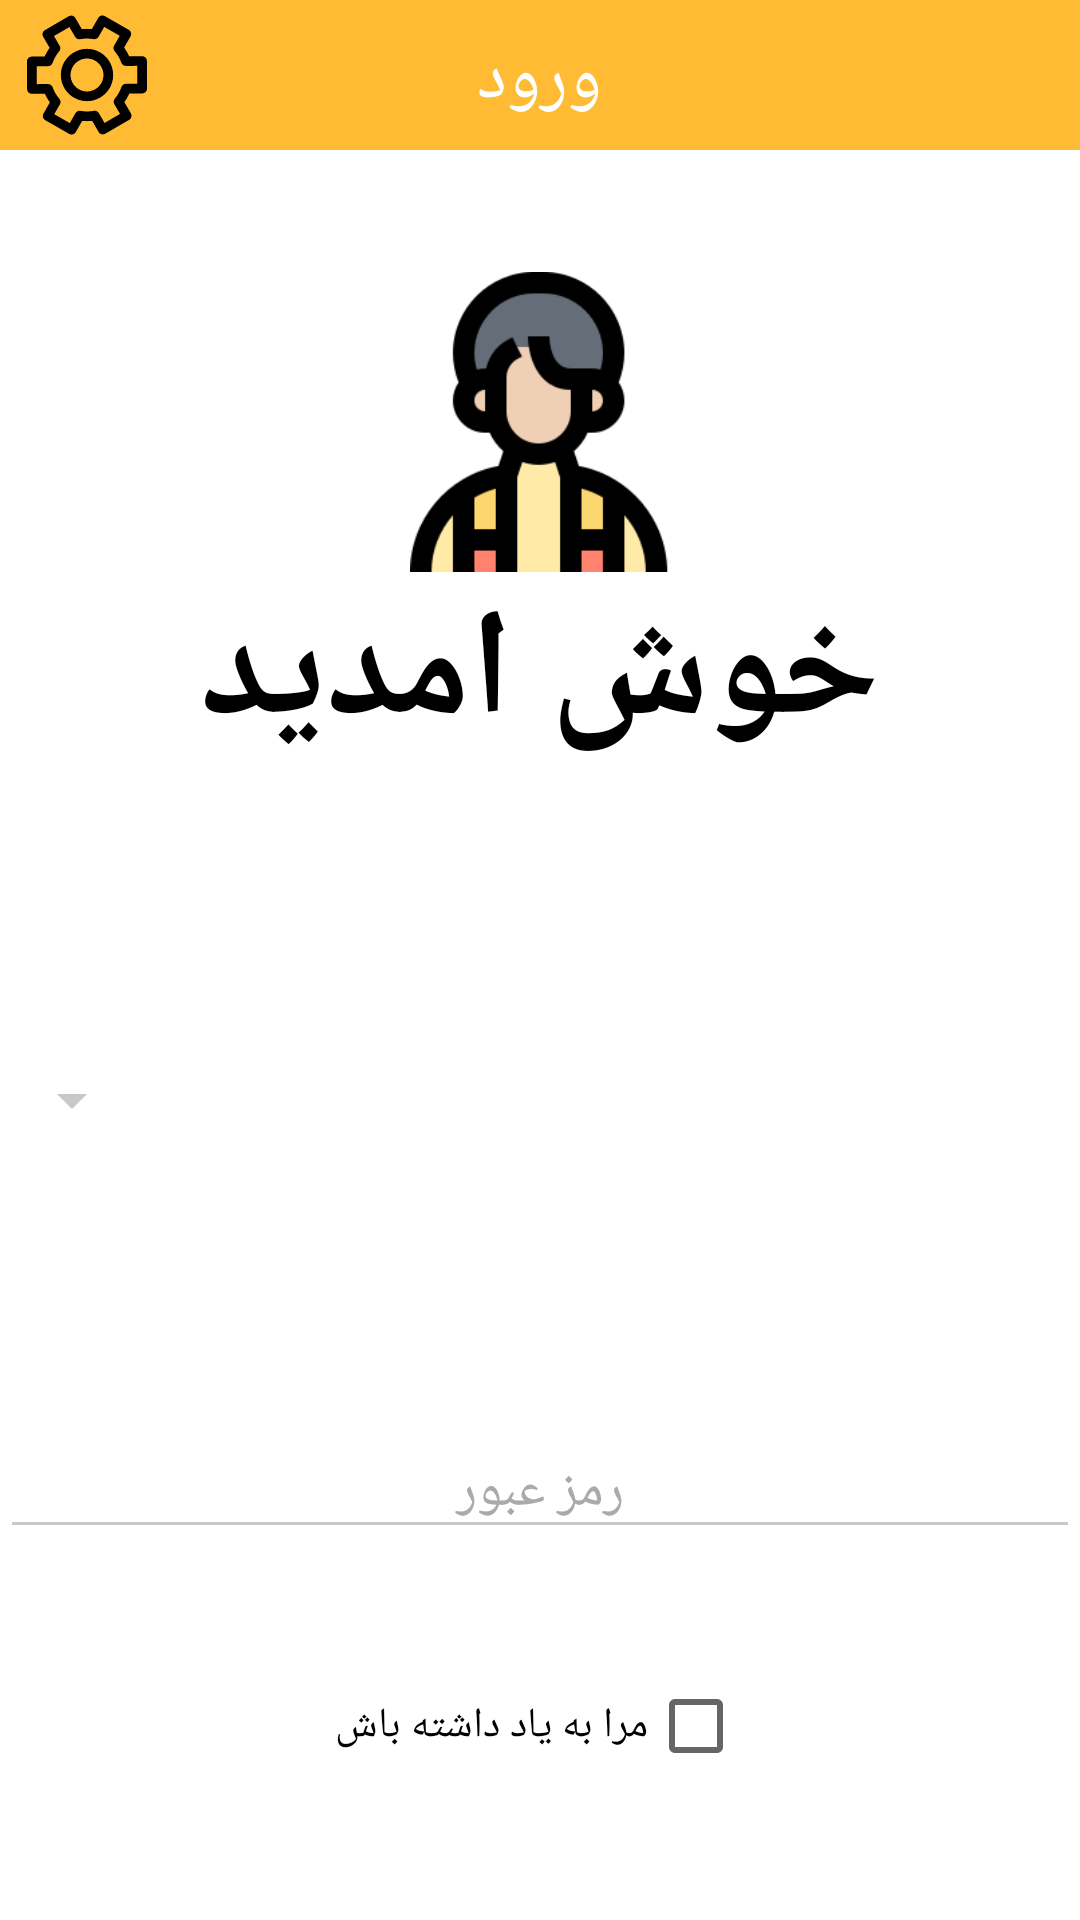

Point at icon controls on the screen. Image size 1080 x 1920, points as (x,y).
cogwheel: (87,75)
person: (539,422)
